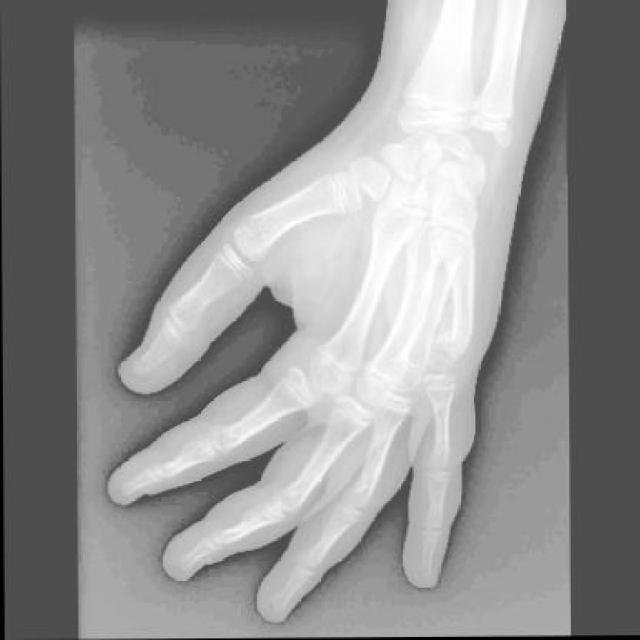Fracture: (440, 320, 474, 351)
